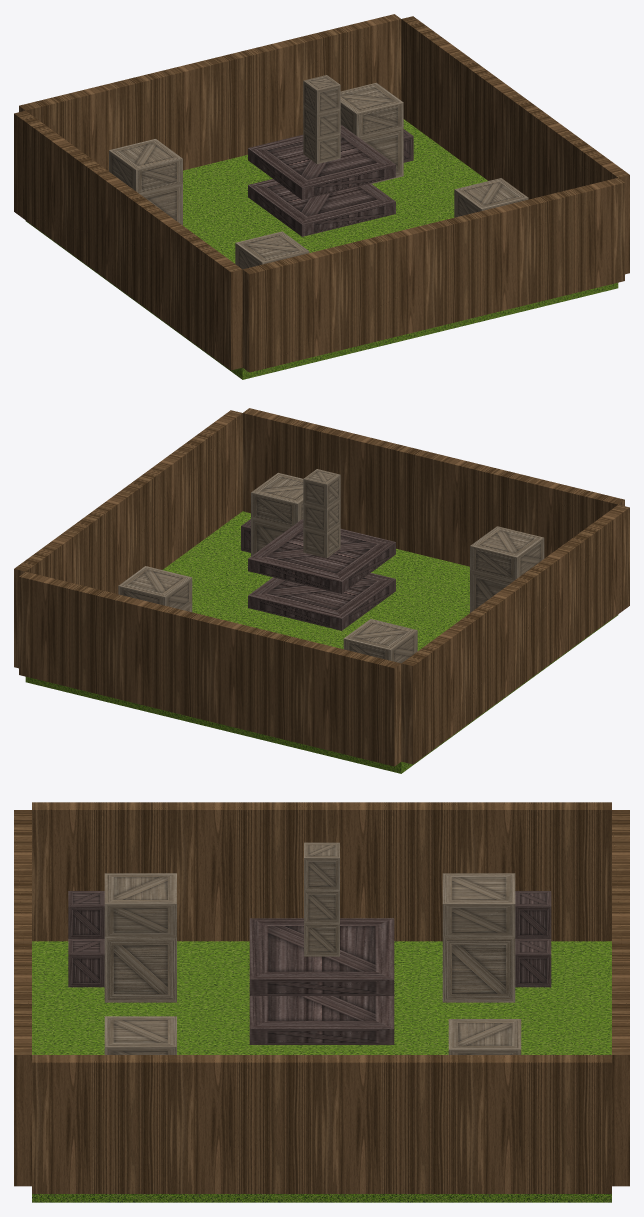
The model's file is map01.obj.
3 views of the same model, one above another, from view 1: azimuth 30°, elevation 25°; view 2: azimuth 150°, elevation 25°; view 3: azimuth 270°, elevation 25° (orthographic). The views are drawn at different scales.
Parts seen in each view (by area): view 1: Cube.002_Cube.052, Cube.003_Cube.053, Cube.001_Cube.051, Cube.004_Cube.054, Cube_Cube.050, Cube.030_Cube.081, Cube.029_Cube.080, Cube.023_Cube.074, Cube.010_Cube.061, Cube.022_Cube.073, Cube.011_Cube.062, Cube.033_Cube.084 (+4 smaller); view 2: Cube.003_Cube.053, Cube.002_Cube.052, Cube.001_Cube.051, Cube.004_Cube.054, Cube_Cube.050, Cube.030_Cube.081, Cube.029_Cube.080, Cube.011_Cube.062, Cube.023_Cube.074, Cube.022_Cube.073, Cube.010_Cube.061, Cube.033_Cube.084 (+4 smaller); view 3: Cube.004_Cube.054, Cube.001_Cube.051, Cube_Cube.050, Cube.030_Cube.081, Cube.029_Cube.080, Cube.003_Cube.053, Cube.002_Cube.052, Cube.024_Cube.075, Cube.012_Cube.063, Cube.023_Cube.074, Cube.011_Cube.062, Cube.022_Cube.073 (+8 smaller).
Part boxes in pixels (left/top/right/bottom): Cube.002_Cube.052: left=242, top=178, right=624, bottom=372; Cube.003_Cube.053: left=19, top=14, right=401, bottom=171; Cube.001_Cube.051: left=14, top=110, right=242, bottom=370; Cube.004_Cube.054: left=401, top=16, right=629, bottom=274; Cube_Cube.050: left=25, top=119, right=618, bottom=379; Cube.030_Cube.081: left=248, top=125, right=395, bottom=199; Cube.029_Cube.080: left=248, top=179, right=395, bottom=236; Cube.023_Cube.074: left=109, top=139, right=182, bottom=193; Cube.010_Cube.061: left=340, top=82, right=403, bottom=137; Cube.022_Cube.073: left=454, top=178, right=528, bottom=216; Cube.011_Cube.062: left=235, top=231, right=309, bottom=269; Cube.033_Cube.084: left=303, top=75, right=340, bottom=114; Cube.003_Cube.053: left=19, top=572, right=401, bottom=766; Cube.002_Cube.052: left=242, top=408, right=624, bottom=566; Cube.001_Cube.051: left=401, top=504, right=629, bottom=764; Cube.004_Cube.054: left=14, top=410, right=242, bottom=668; Cube_Cube.050: left=25, top=511, right=618, bottom=773; Cube.030_Cube.081: left=248, top=519, right=395, bottom=593; Cube.029_Cube.080: left=248, top=573, right=395, bottom=630; Cube.011_Cube.062: left=470, top=526, right=544, bottom=580; Cube.023_Cube.074: left=343, top=619, right=417, bottom=663; Cube.022_Cube.073: left=251, top=472, right=303, bottom=526; Cube.010_Cube.061: left=118, top=566, right=192, bottom=609; Cube.033_Cube.084: left=303, top=469, right=340, bottom=508; Cube.004_Cube.054: left=32, top=1055, right=611, bottom=1193; Cube.001_Cube.051: left=32, top=802, right=611, bottom=941; Cube_Cube.050: left=32, top=941, right=611, bottom=1202; Cube.030_Cube.081: left=249, top=918, right=394, bottom=995; Cube.029_Cube.080: left=249, top=996, right=394, bottom=1044; Cube.003_Cube.053: left=612, top=810, right=629, bottom=1186; Cube.002_Cube.052: left=14, top=810, right=31, bottom=1186; Cube.024_Cube.075: left=442, top=937, right=515, bottom=1002; Cube.012_Cube.063: left=104, top=937, right=176, bottom=1002; Cube.023_Cube.074: left=442, top=873, right=515, bottom=936; Cube.011_Cube.062: left=104, top=873, right=176, bottom=936; Cube.022_Cube.073: left=104, top=1016, right=176, bottom=1054.
Bounding box in the file's own units: 68 × 28 × 68.
